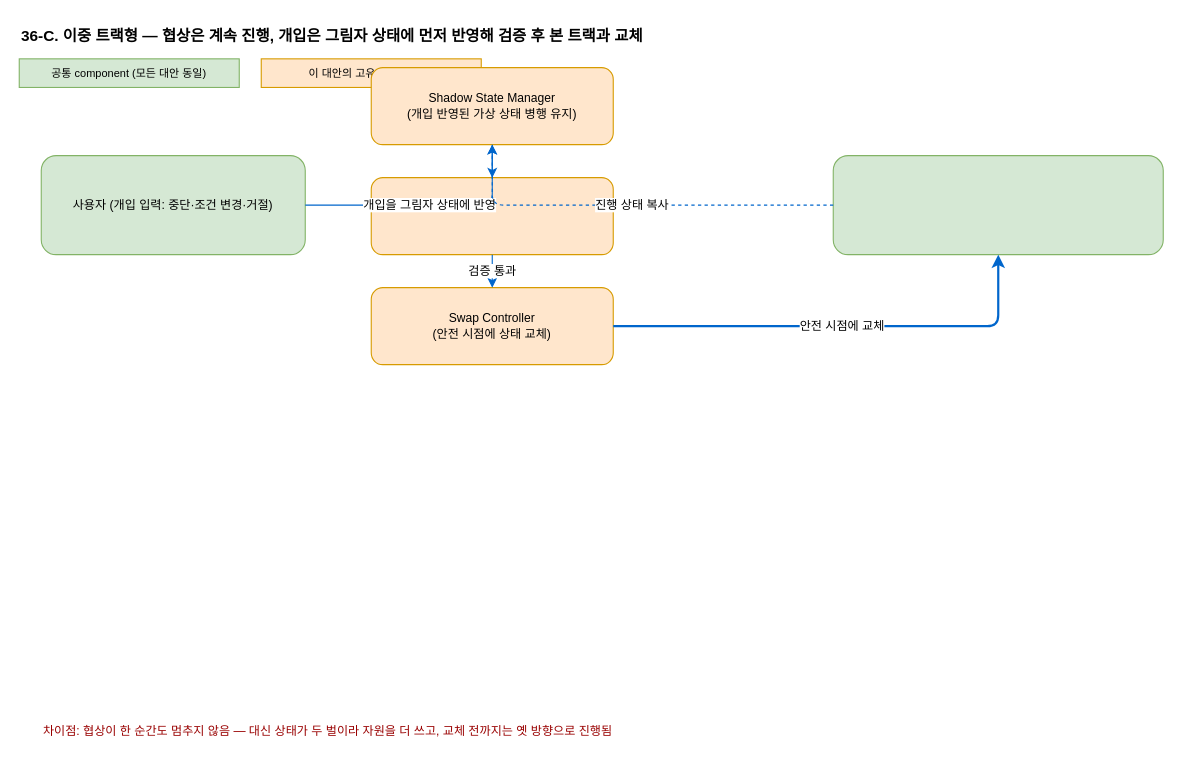
Some shapes in this 1194 by 779 pixel diagram are drawn without their labels. Each missing label, with the centre of its shape:
"Diff Validator (본 트랙과 차이 검증)" belongs at [491,216].
"협상 세션 진행 (공통) 라운드 실행 · 제안/평가 · 완결 판정" belongs at [997,205].
